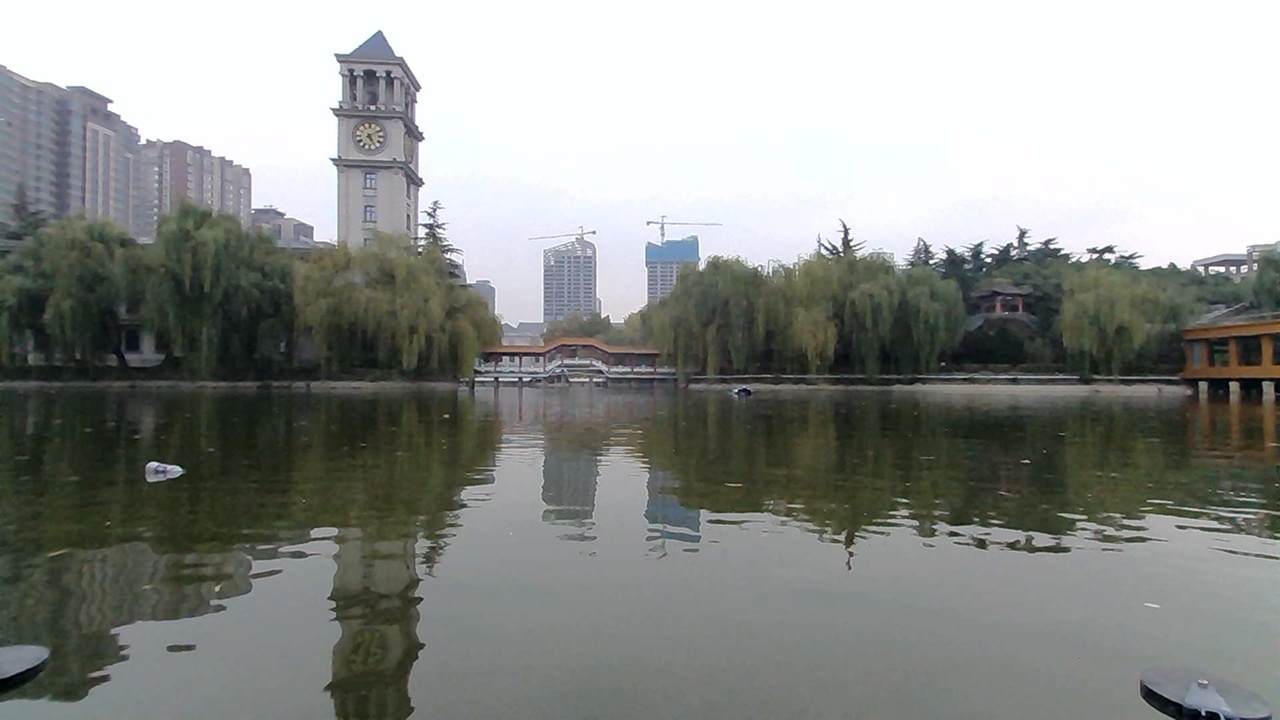bottle: (141, 451, 193, 489)
